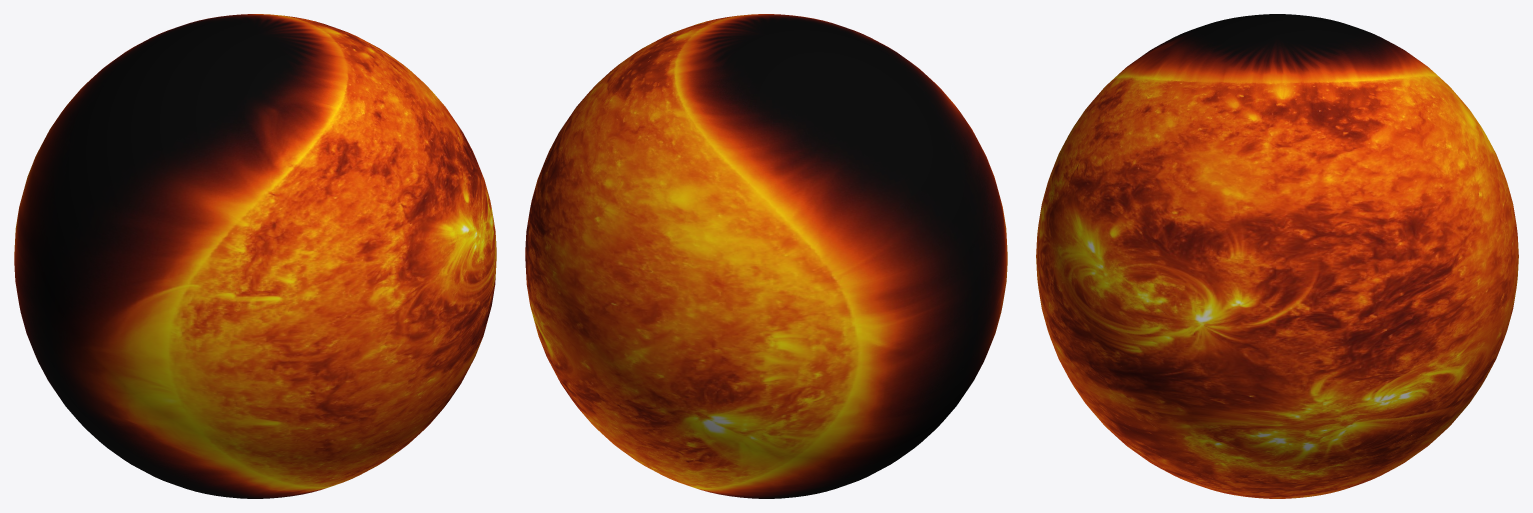
The model's file is Sun.obj.
3 renders of one model, left to right at view 1: azimuth 30°, elevation 25°; view 2: azimuth 150°, elevation 25°; view 3: azimuth 270°, elevation 25°, orthographic.
Visible parts, largest first — view 1: Planet_Sphere; view 2: Planet_Sphere; view 3: Planet_Sphere.
Part boxes in pixels (bbox=[...]): Planet_Sphere: bbox=[14, 14, 496, 498]; Planet_Sphere: bbox=[525, 14, 1007, 498]; Planet_Sphere: bbox=[1036, 14, 1518, 498].
Size of the model in its own units: 1.97 by 2 by 1.97.
